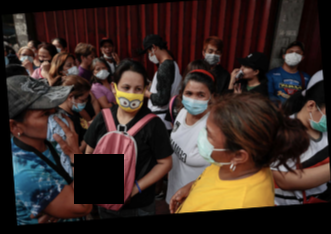mask_weared_incorrect: (237, 65, 253, 81), (101, 43, 113, 59)
with_mask: (194, 123, 228, 165), (24, 105, 62, 141), (114, 81, 143, 114), (181, 87, 209, 115), (307, 108, 326, 133), (283, 47, 302, 67), (70, 94, 89, 114), (203, 47, 220, 66), (62, 60, 79, 78), (94, 64, 109, 80), (37, 50, 51, 65), (20, 51, 33, 65), (147, 51, 157, 65)
